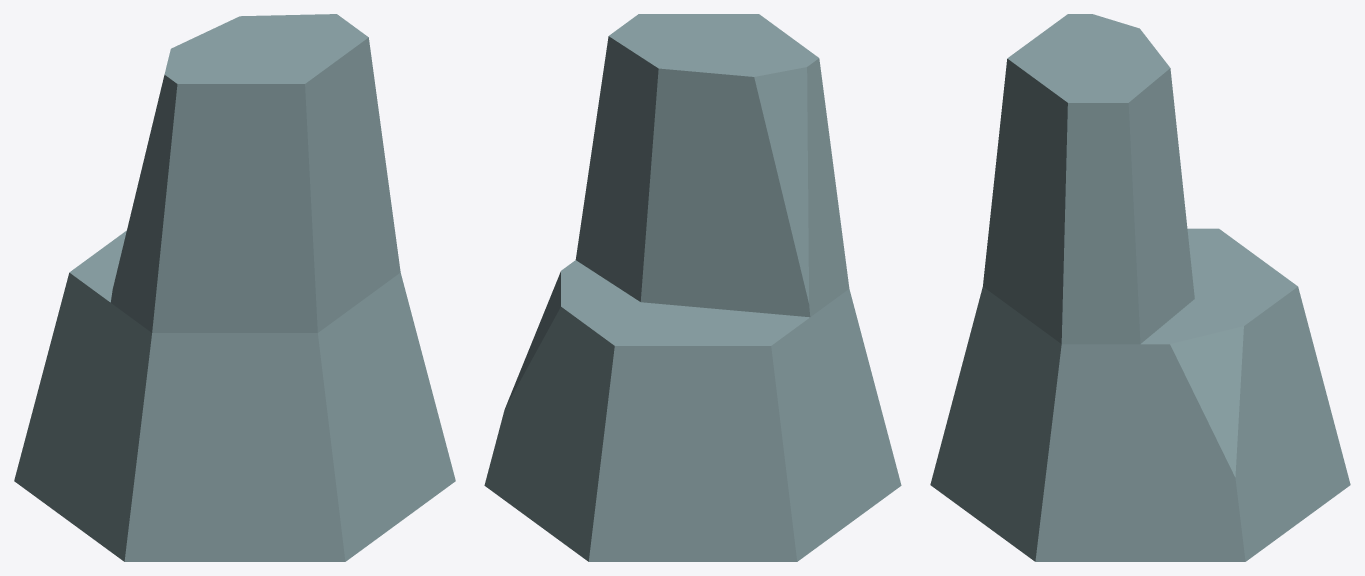
The model's file is stone_tallF.glb.
3 renders of one model, left to right at view 1: azimuth 30°, elevation 25°; view 2: azimuth 150°, elevation 25°; view 3: azimuth 270°, elevation 25°, orthographic. The views are drawn at different scales.
Parts seen in each view (by area): view 1: stone_tallF; view 2: stone_tallF; view 3: stone_tallF.
Boxes of the visible parts, box(x1,y1,x2,y2) form: stone_tallF: box(14, 14, 455, 561); stone_tallF: box(484, 14, 901, 561); stone_tallF: box(930, 14, 1350, 561).
Bounding box in the file's own units: 0.4437 × 0.5737 × 0.5123.
